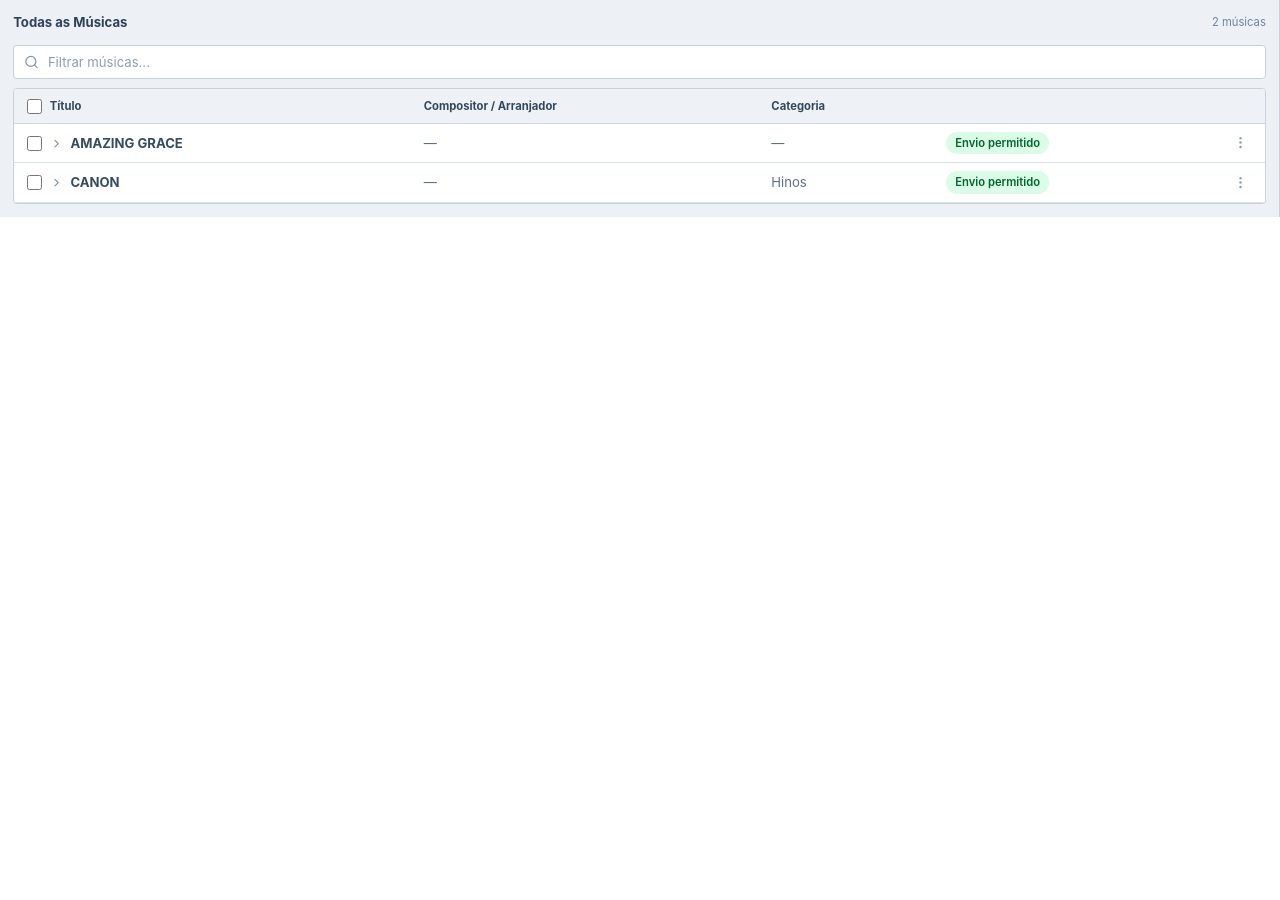
Test: SongsList › asks for confirmation before bulk moving songs to trash
Expected: the text "CANON" is shown, [70,173,120,192]
Click the checkbox named "select CANON".
click(35, 183)  # box [27,175,42,190]
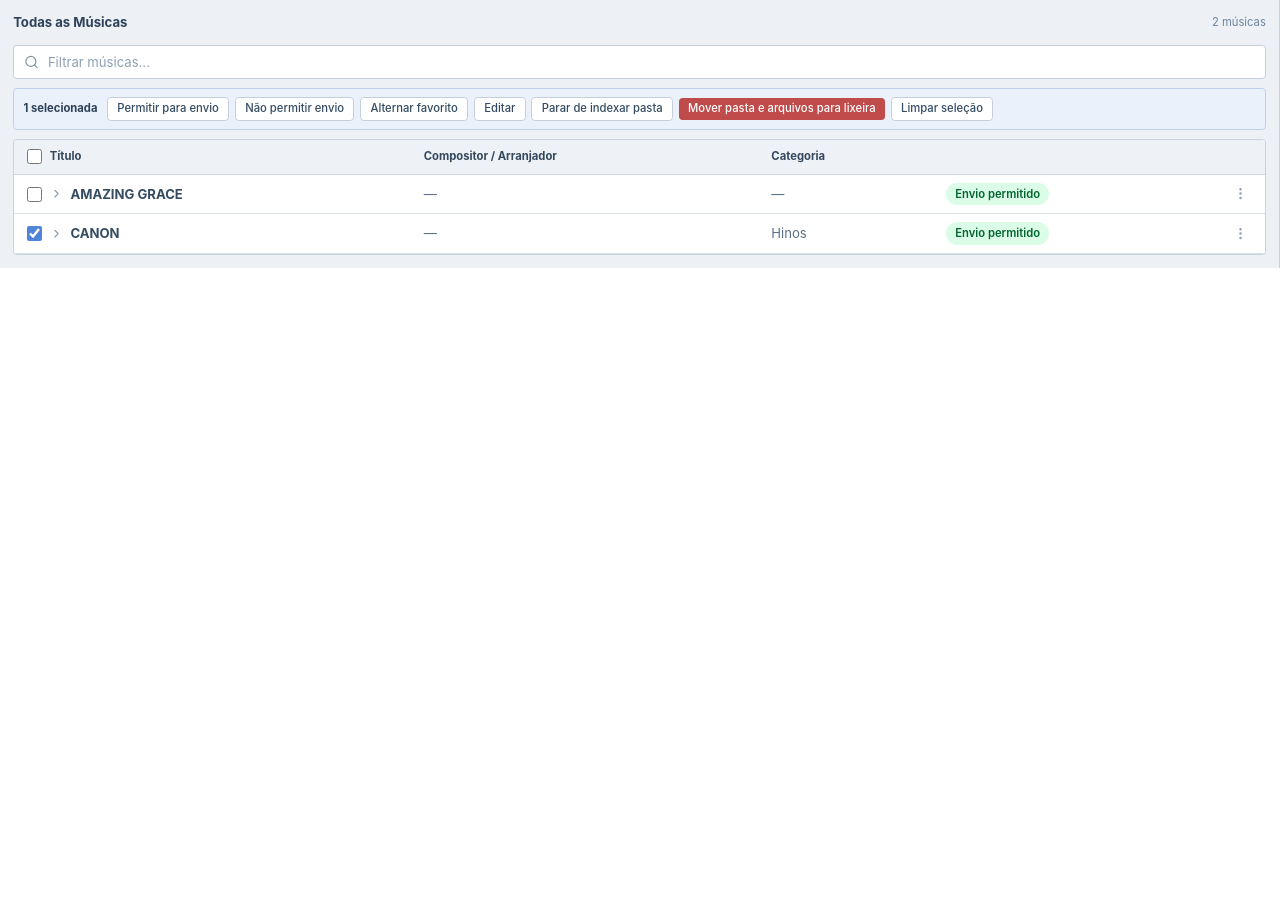
Click the button "Mover pasta e arquivos para lixeira".
click(782, 109)  # box [679,98,885,120]
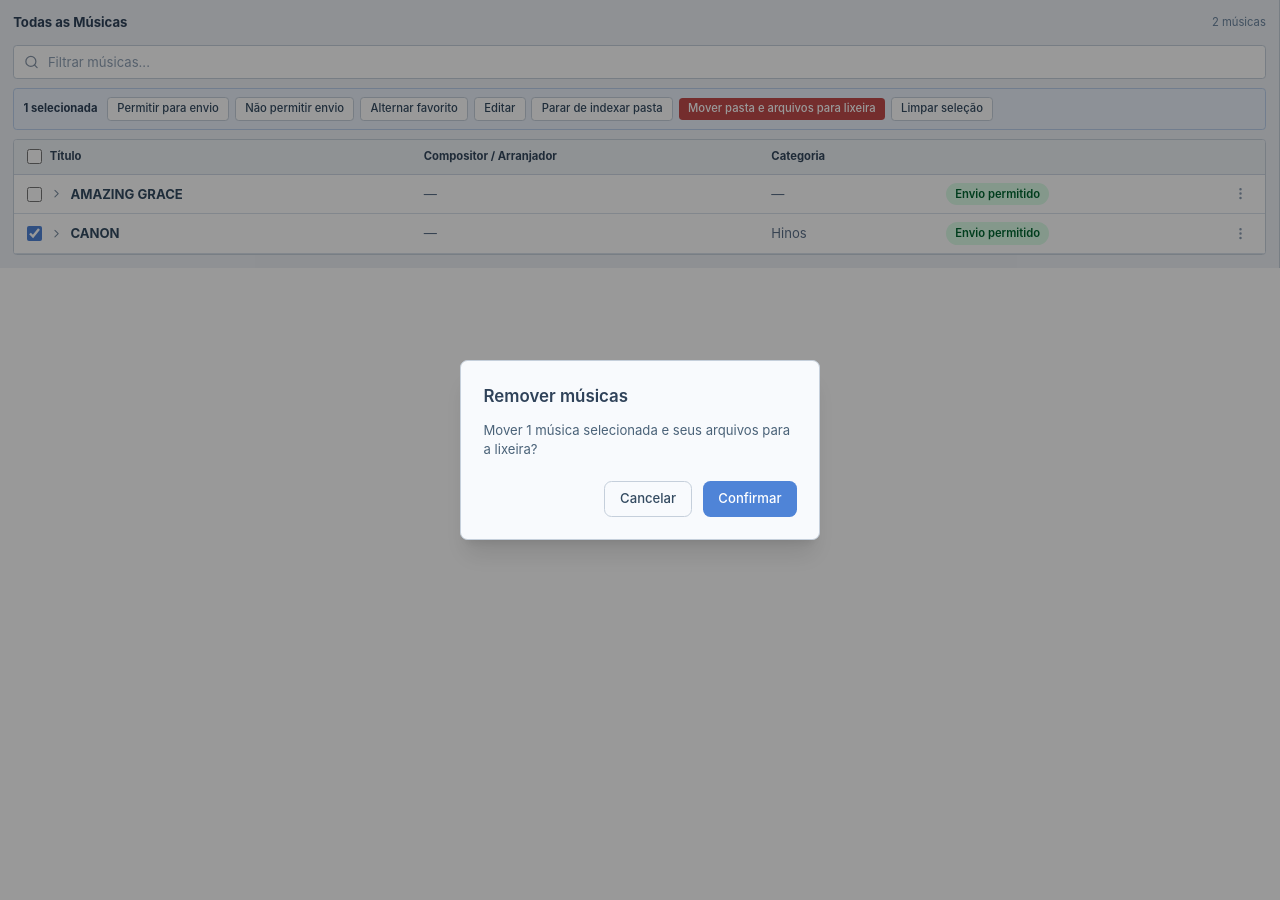
Expected: the heading "Remover músicas" is shown, [484,386,628,406]
Expected: the text "Mover 1 música selecionada e seus arquivos para a lixeira?" is shown, [484,421,796,458]
Click the button "Cancelar".
click(648, 499)  # box [604,481,692,517]
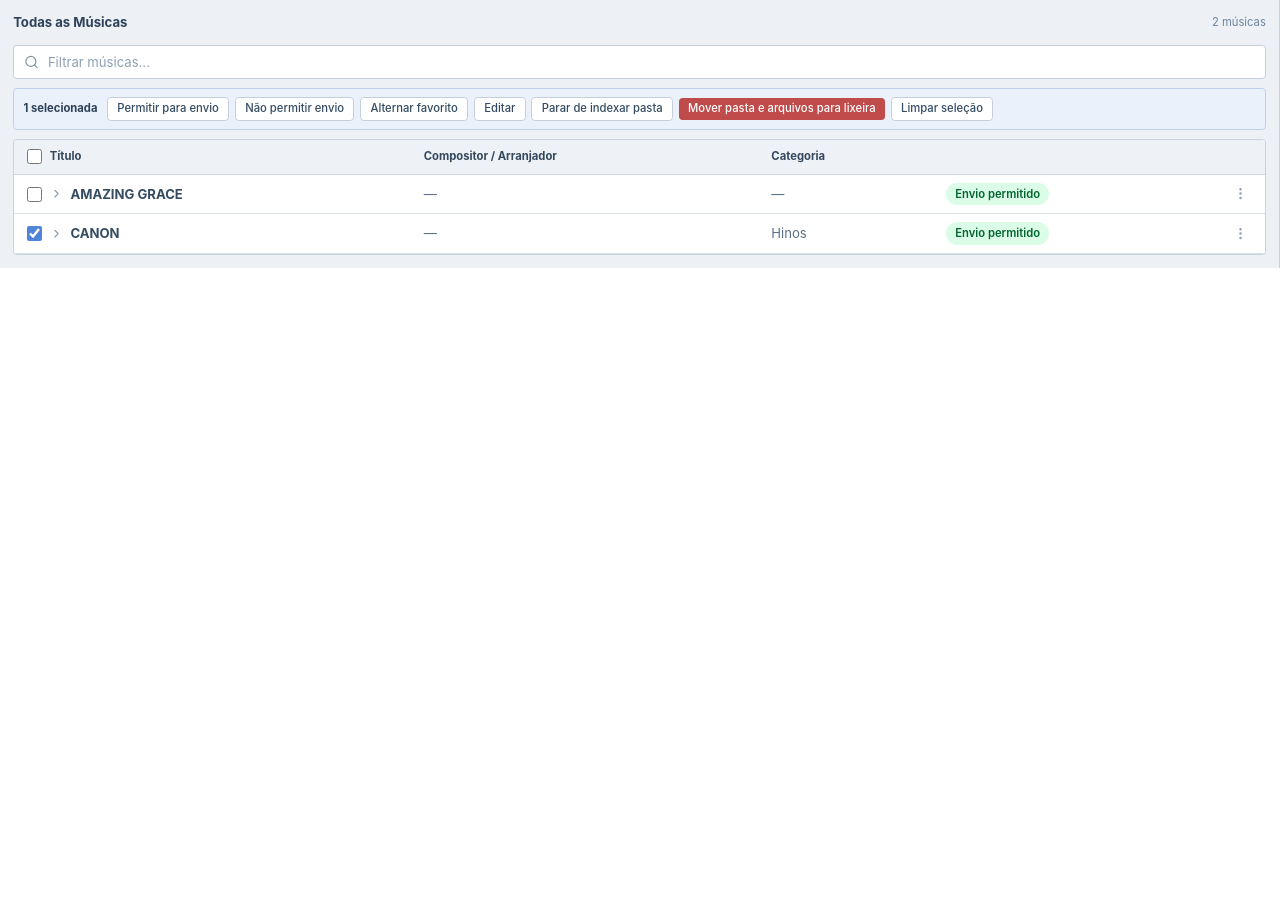
Expected: the heading "Remover músicas" is gone
